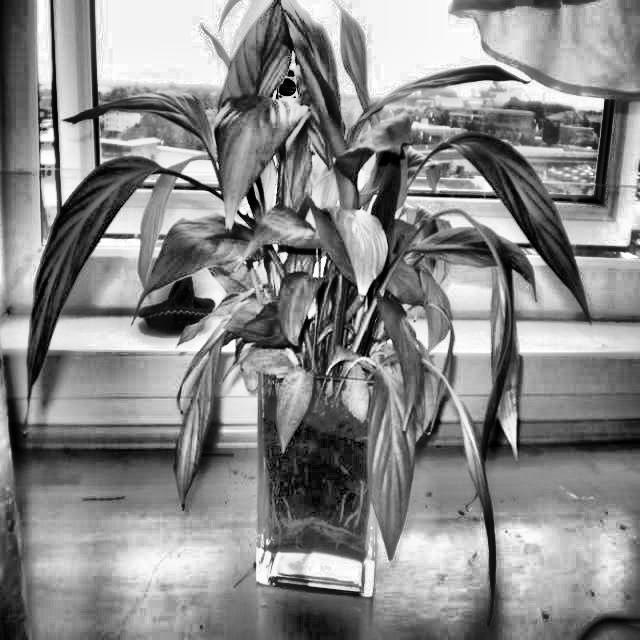plants: (32, 0, 596, 639), (471, 224, 544, 475), (342, 116, 417, 198)
